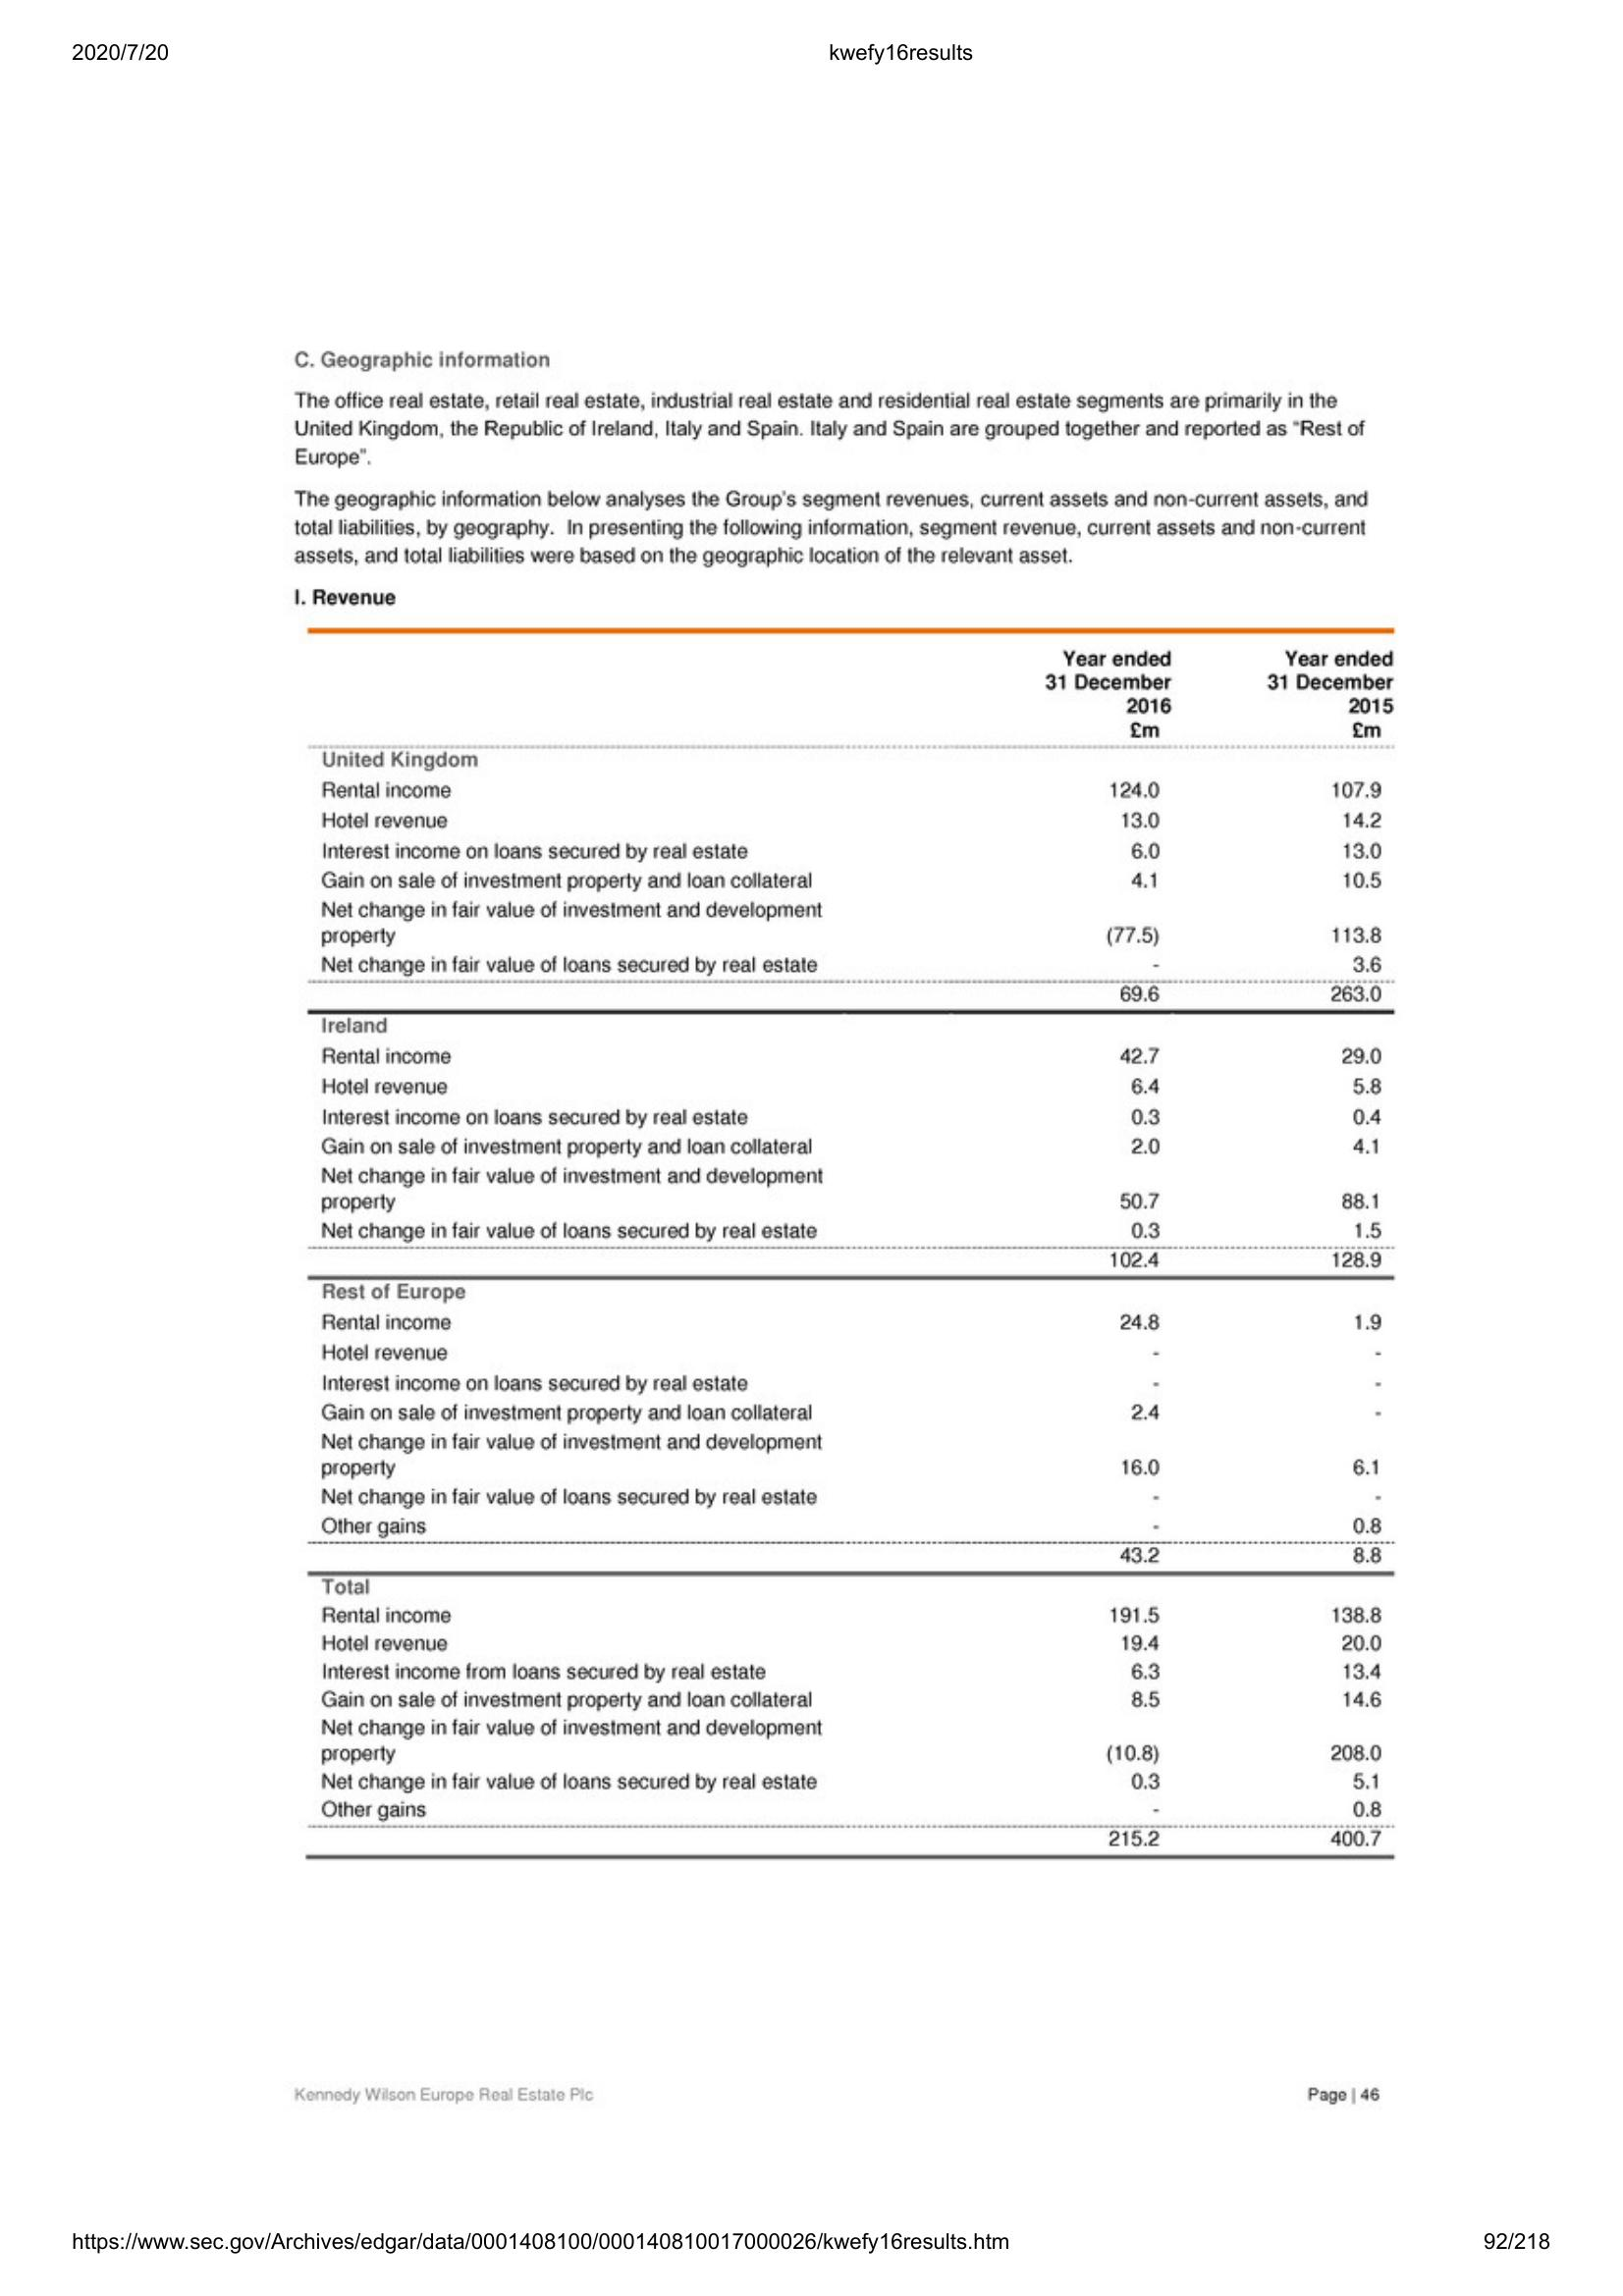table: (304, 621, 1400, 1869)
